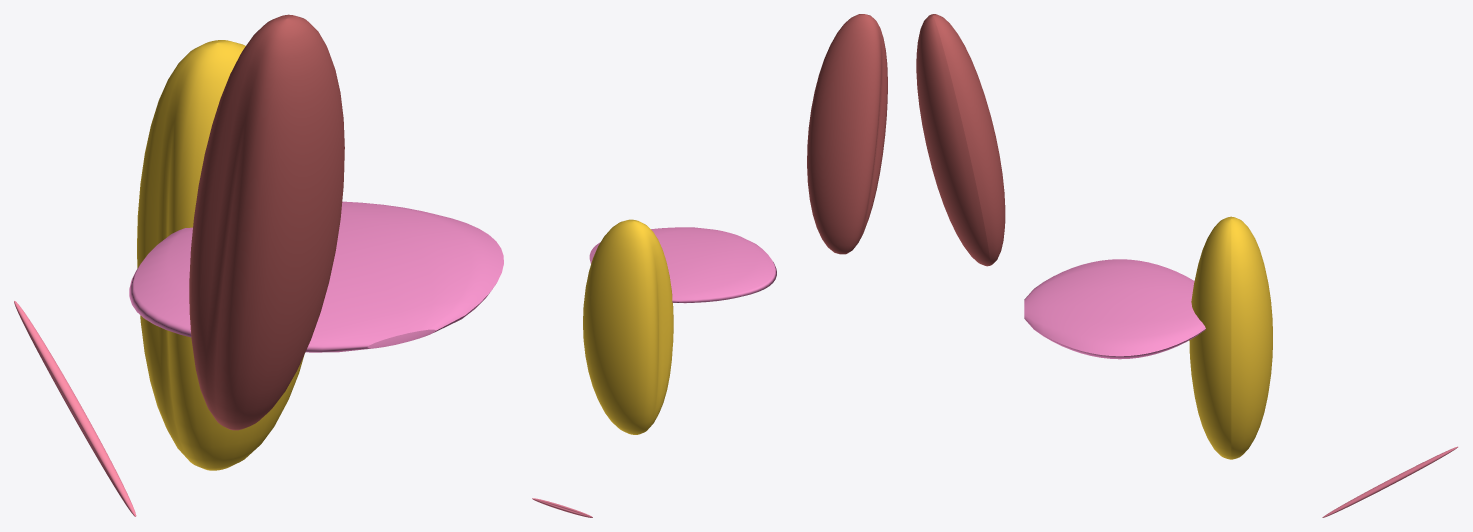
File: urogenital.glb
3 views of the same model, side by side, from view 1: azimuth 30°, elevation 25°; view 2: azimuth 150°, elevation 25°; view 3: azimuth 270°, elevation 25° (orthographic). The views are drawn at different scales.
Parts seen in each view (by area): view 1: Mesh_Ovine_Ren, Mesh_Ovine_Uterus, Mesh_Ovine_VesicaUrinaria, Mesh_Ovine_ProcessusUrethralis; view 2: Mesh_Ovine_VesicaUrinaria, Mesh_Ovine_Ren, Mesh_Ovine_Uterus; view 3: Mesh_Ovine_VesicaUrinaria, Mesh_Ovine_Ren, Mesh_Ovine_Uterus, Mesh_Ovine_ProcessusUrethralis.
Part boxes in pixels (<box>): Mesh_Ovine_Ren: <box>189,14,344,430</box>; Mesh_Ovine_Uterus: <box>129,201,503,352</box>; Mesh_Ovine_VesicaUrinaria: <box>137,40,303,470</box>; Mesh_Ovine_ProcessusUrethralis: <box>14,301,136,516</box>; Mesh_Ovine_VesicaUrinaria: <box>583,219,673,434</box>; Mesh_Ovine_Ren: <box>807,14,887,254</box>; Mesh_Ovine_Uterus: <box>589,227,776,303</box>; Mesh_Ovine_VesicaUrinaria: <box>1189,216,1272,459</box>; Mesh_Ovine_Ren: <box>916,14,1005,266</box>; Mesh_Ovine_Uterus: <box>1024,259,1205,359</box>; Mesh_Ovine_ProcessusUrethralis: <box>1322,446,1457,517</box>.
Bounding box in the file's own units: 0.1723 × 0.311 × 0.3408.
